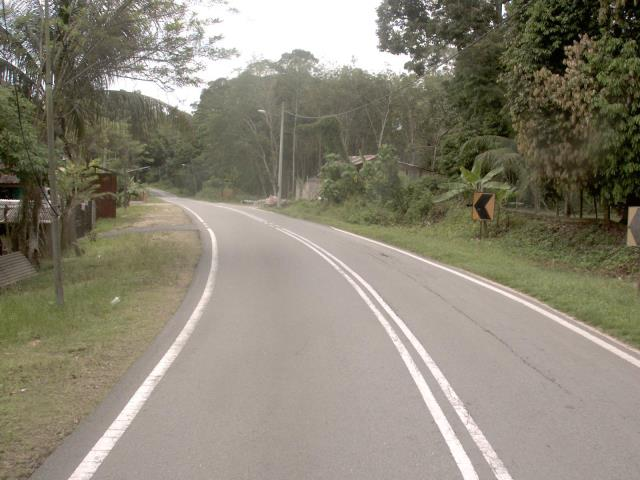traffic_sign: (466, 183, 501, 228)
